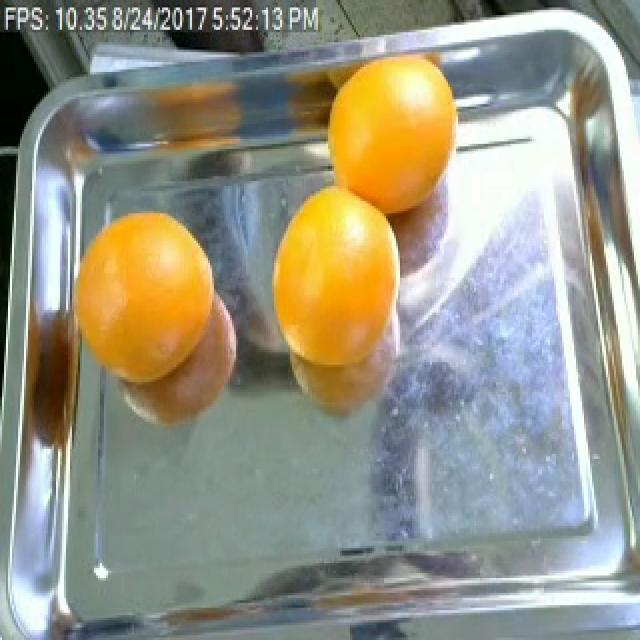Fruit: (308, 44, 484, 250), (254, 166, 400, 380), (78, 270, 252, 444)
